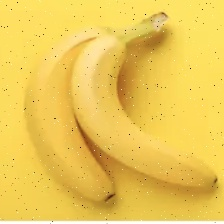banana: (4, 62, 200, 198)
